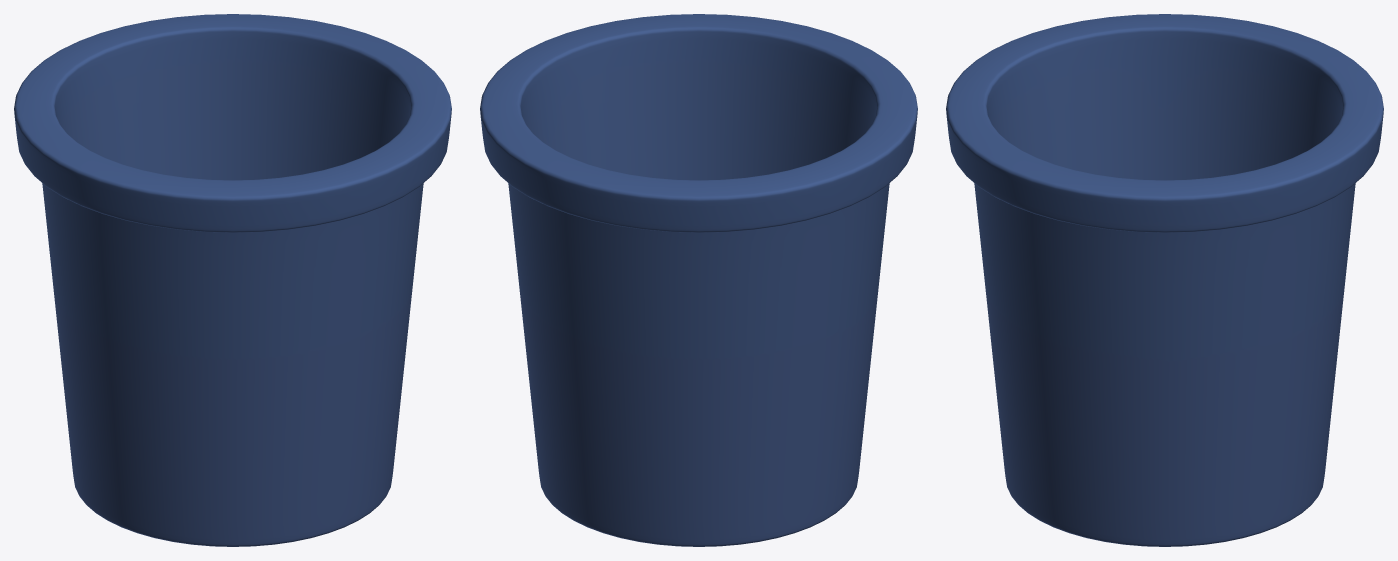
The model's file is HH_TrashCan.fbx.
3 renders of one model, left to right at view 1: azimuth 30°, elevation 25°; view 2: azimuth 150°, elevation 25°; view 3: azimuth 270°, elevation 25°, orthographic.
Parts seen in each view (by area): view 1: TrashCan; view 2: TrashCan; view 3: TrashCan.
Boxes of the visible parts, box(x1,y1,x2,y2) form: TrashCan: box(14, 14, 451, 546); TrashCan: box(480, 14, 917, 546); TrashCan: box(946, 14, 1383, 546).
Bounding box in the file's own units: 63.06 × 59.99 × 63.06.
Materials: 1 (1 with a texture image).
